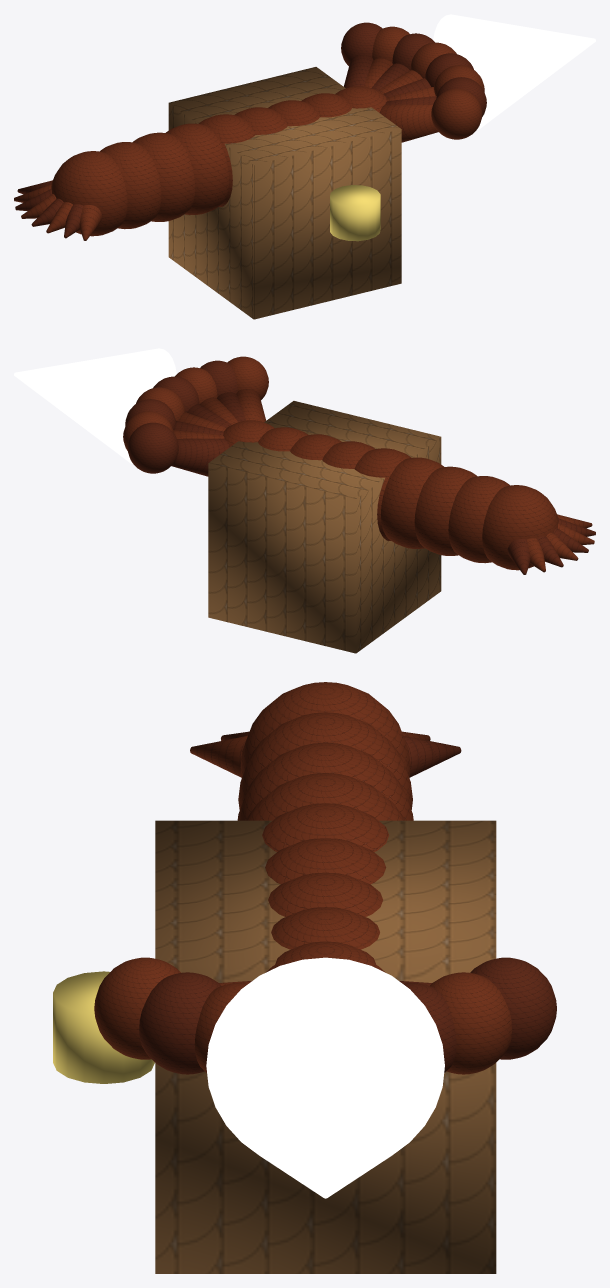
File: orochi.glb
3 views of the same model, one above another, from view 1: azimuth 30°, elevation 25°; view 2: azimuth 150°, elevation 25°; view 3: azimuth 270°, elevation 25° (orthographic). The views are drawn at different scales.
Parts seen in each view (by area): view 1: Cube, StormBreath, BodySeg0, BodySeg3, BodySeg2, BodySeg1, SakeVat, Head0, Neck0, BodySeg4, Head7, BodySeg5 (+16 smaller); view 2: Cube, StormBreath, BodySeg0, BodySeg3, BodySeg2, BodySeg1, Head7, Neck7, BodySeg4, Head0, BodySeg5, BodySeg6 (+15 smaller); view 3: Cube, StormBreath, SakeVat, Head6, Head1, BodySeg1, BodySeg2, BodySeg0, Head0, Head7, BodySeg3, BodySeg4 (+8 smaller).
Boxes of the visible parts, left/top/right/bottom form: Cube: left=168, top=67, right=401, bottom=319; StormBreath: left=433, top=14, right=595, bottom=129; BodySeg0: left=51, top=151, right=127, bottom=236; BodySeg3: left=165, top=123, right=229, bottom=214; BodySeg2: left=133, top=132, right=195, bottom=221; BodySeg1: left=99, top=142, right=161, bottom=229; SakeVat: left=330, top=185, right=380, bottom=241; Head0: left=431, top=88, right=482, bottom=139; Neck0: left=379, top=104, right=438, bottom=142; BodySeg4: left=198, top=114, right=255, bottom=206; Head7: left=341, top=22, right=382, bottom=65; BodySeg5: left=235, top=107, right=287, bottom=134; Cube: left=208, top=401, right=441, bottom=653; StormBreath: left=14, top=348, right=176, bottom=463; BodySeg0: left=482, top=485, right=558, bottom=570; BodySeg3: left=380, top=457, right=444, bottom=548; BodySeg2: left=414, top=466, right=476, bottom=555; BodySeg1: left=448, top=476, right=510, bottom=563; Head7: left=127, top=422, right=178, bottom=473; Neck7: left=171, top=438, right=230, bottom=476; BodySeg4: left=354, top=448, right=411, bottom=540; Head0: left=227, top=356, right=268, bottom=399; BodySeg5: left=322, top=441, right=374, bottom=468; BodySeg6: left=290, top=434, right=341, bottom=460; Cube: left=155, top=820, right=496, bottom=1273; StormBreath: left=206, top=957, right=444, bottom=1198; SakeVat: left=53, top=971, right=154, bottom=1083; Head6: left=430, top=972, right=512, bottom=1074; Head1: left=139, top=972, right=221, bottom=1074; BodySeg1: left=238, top=712, right=412, bottom=809; BodySeg2: left=237, top=742, right=413, bottom=820; BodySeg0: left=240, top=682, right=410, bottom=778; Head0: left=94, top=957, right=180, bottom=1059; Head7: left=470, top=957, right=556, bottom=1059; BodySeg3: left=246, top=773, right=404, bottom=820; BodySeg4: left=262, top=803, right=388, bottom=851.
Size of the model in its own units: 6.92 by 2.43 by 2.66.
5 materials, 3 textured.
